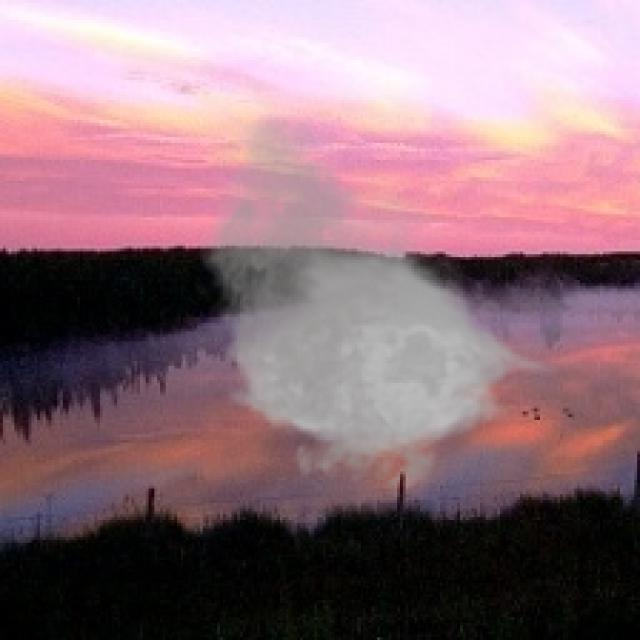smoke: (188, 108, 563, 503)
